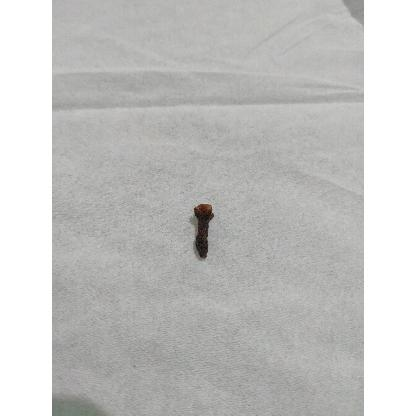sedang: (193, 203, 215, 261)
